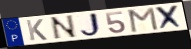5: (104, 10, 127, 34)
J: (79, 12, 104, 38)
K: (24, 18, 49, 41)
M: (127, 6, 160, 34)
N: (49, 14, 79, 41)
X: (155, 4, 185, 31)
